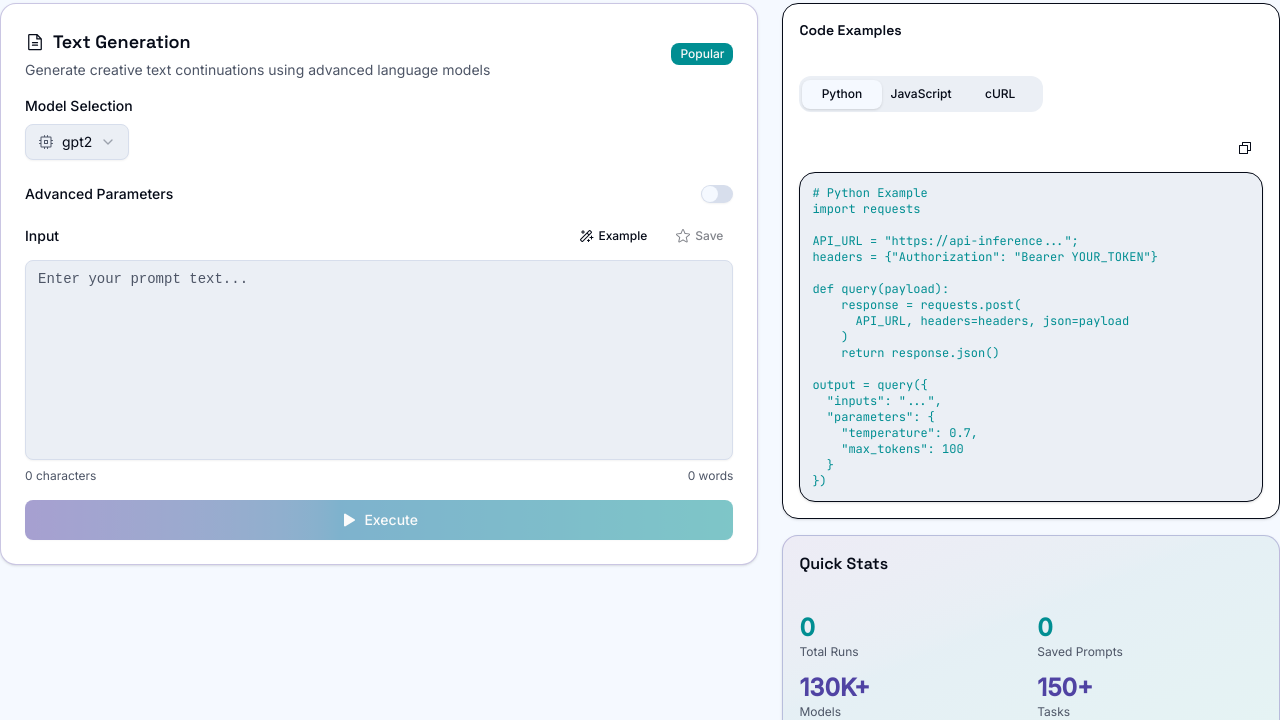
Test case: ApiPlayground › Input Handling › should show character count
This screenshot has width=1280, height=720.
(page scrolled)
Type "Test" into the text box with placeholder "Enter your prompt text...". click: (379, 360)
box: [25,260,733,460]
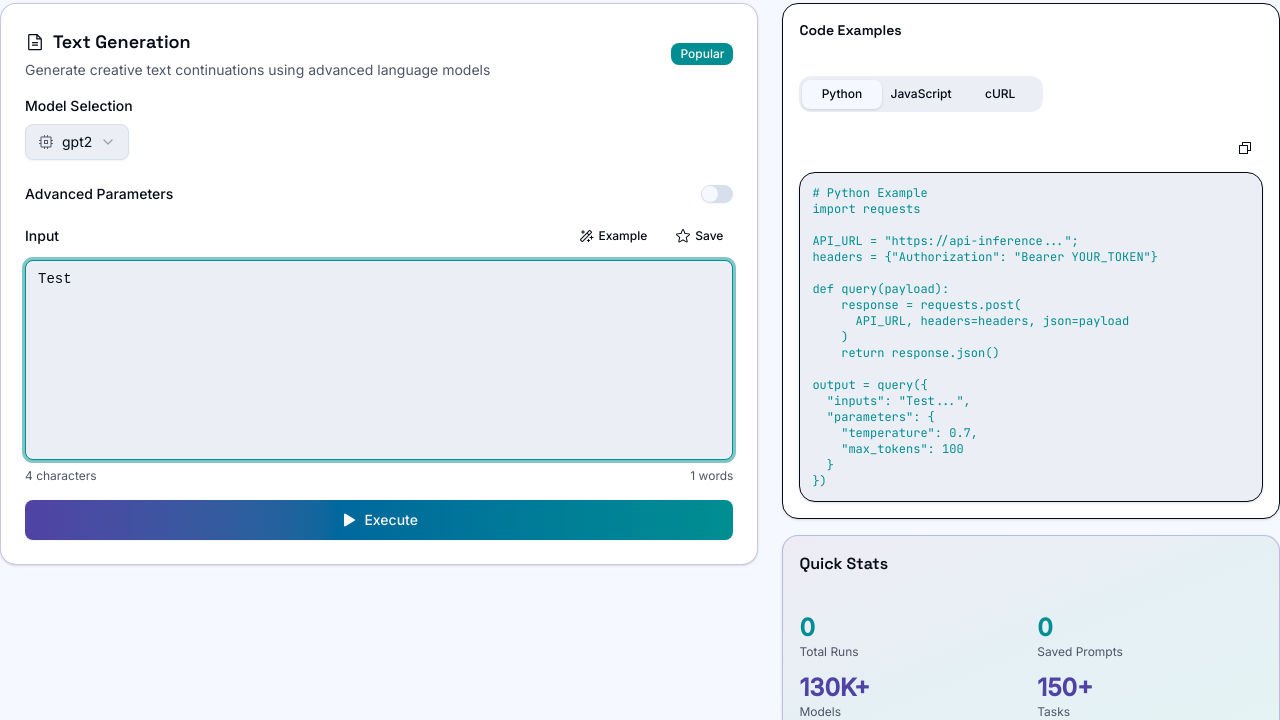
Expected: the text "4 characters" is shown, [25,468,97,484]
